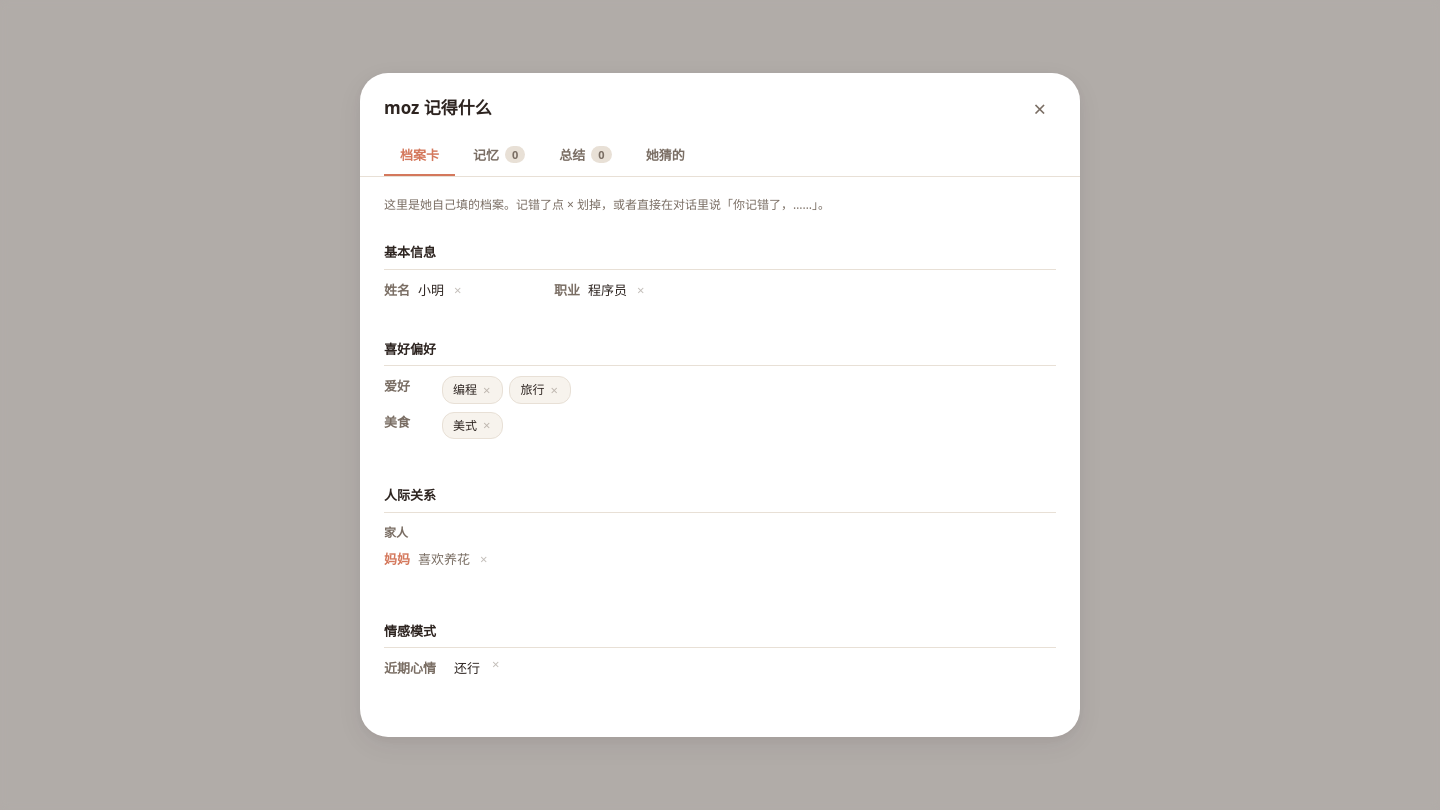
Test case: 档案卡上能把记错的划掉 › 后端答了话就别赖它"没应答"：403 的原因要念给用户看
Click the button with class "mem-tag-x" next to "旅行" at (554, 390), box [548,384,560,397]
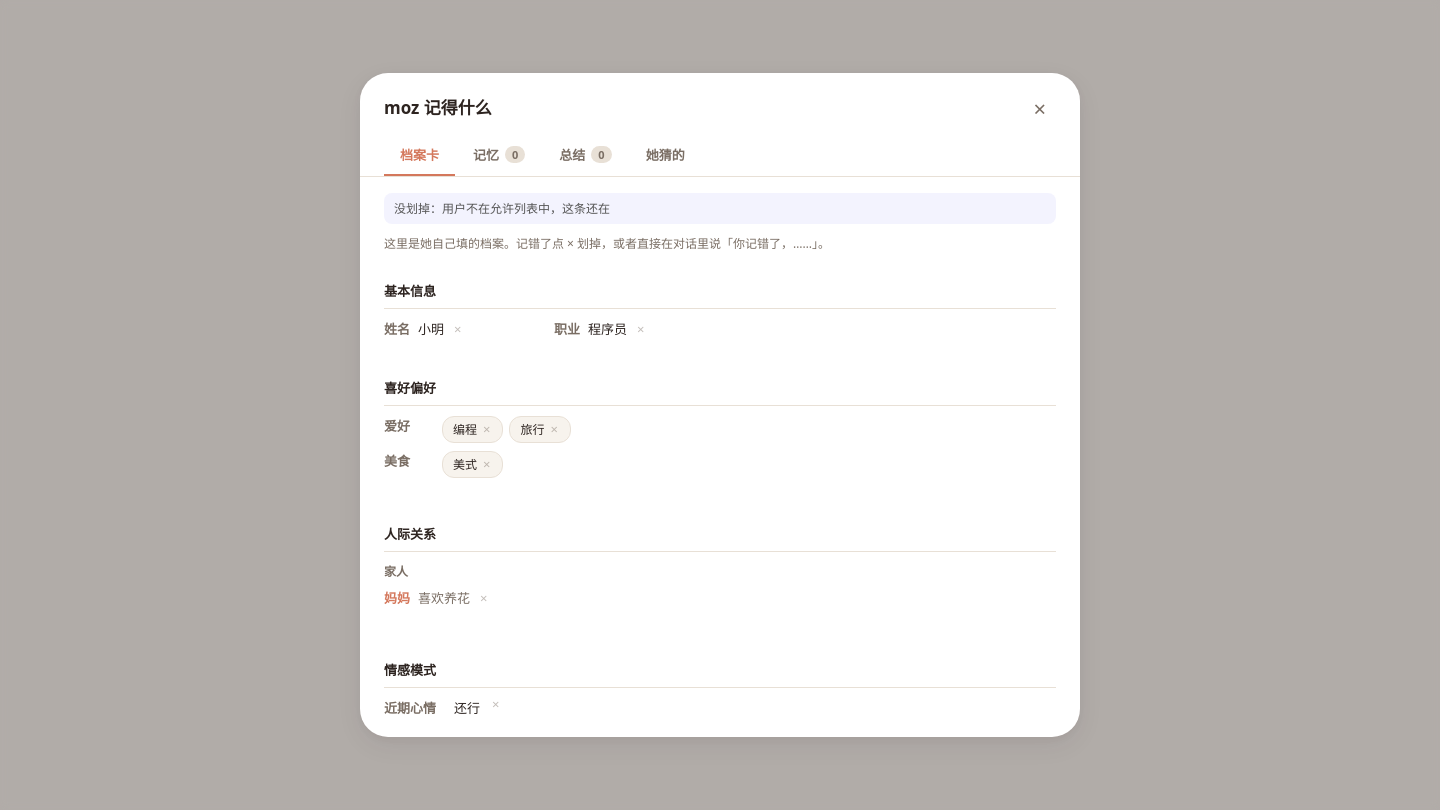
Now the text "没划掉：用户不在允许列表中" is shown, box [394,200,610,217]
